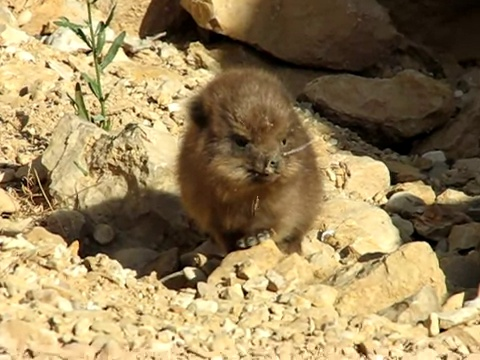Rock Hyrex: (183, 67, 319, 256)
